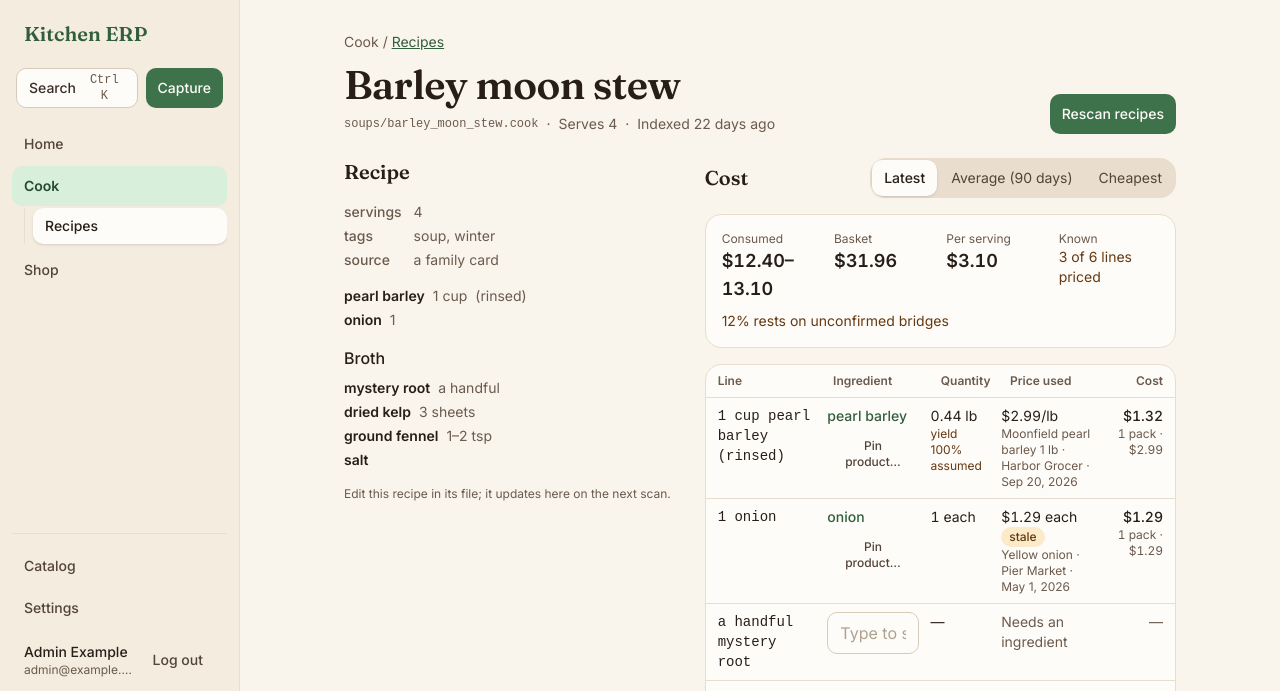
Test case: pins (UI-7.11, criterion 31) › a refused pin shows its reason at the row
This screenshot has width=1280, height=691.
Click the button "Pin product…" below "1 cup pearl barley (rinsed)".
click(873, 454)  # box [827,430,919,478]
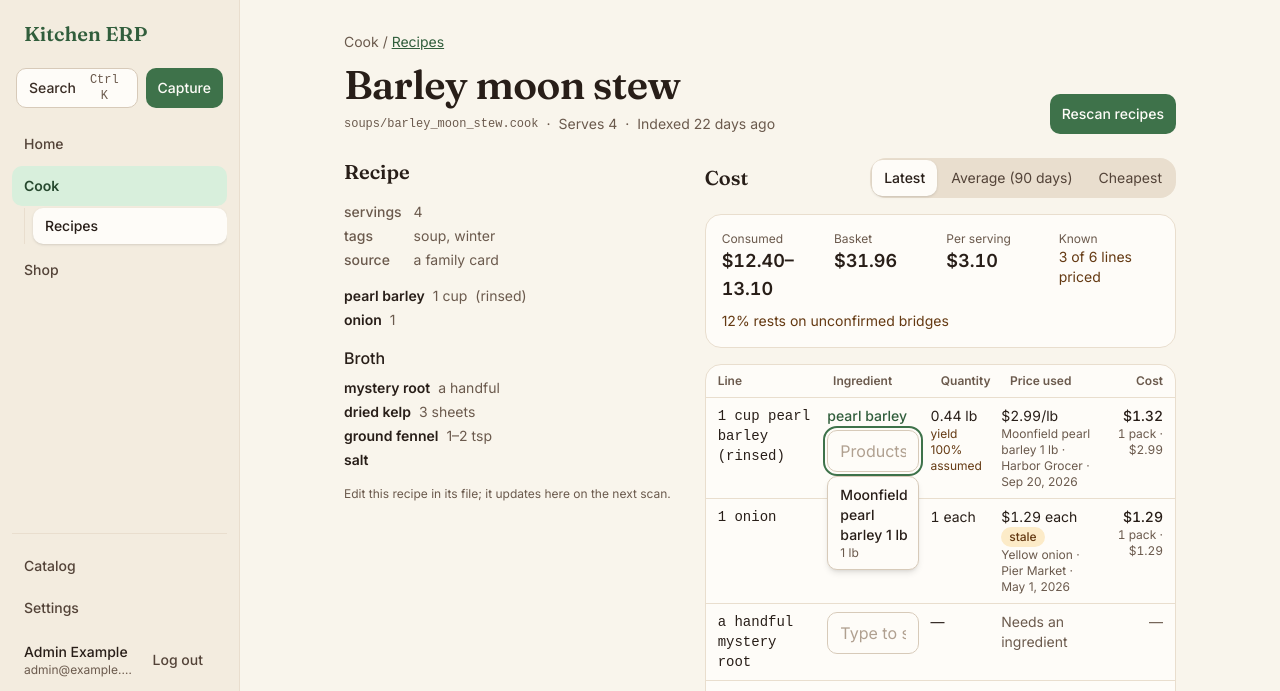
Expected: the number of options is 1, [840,486,908,560]
Press Arrowdown Enter
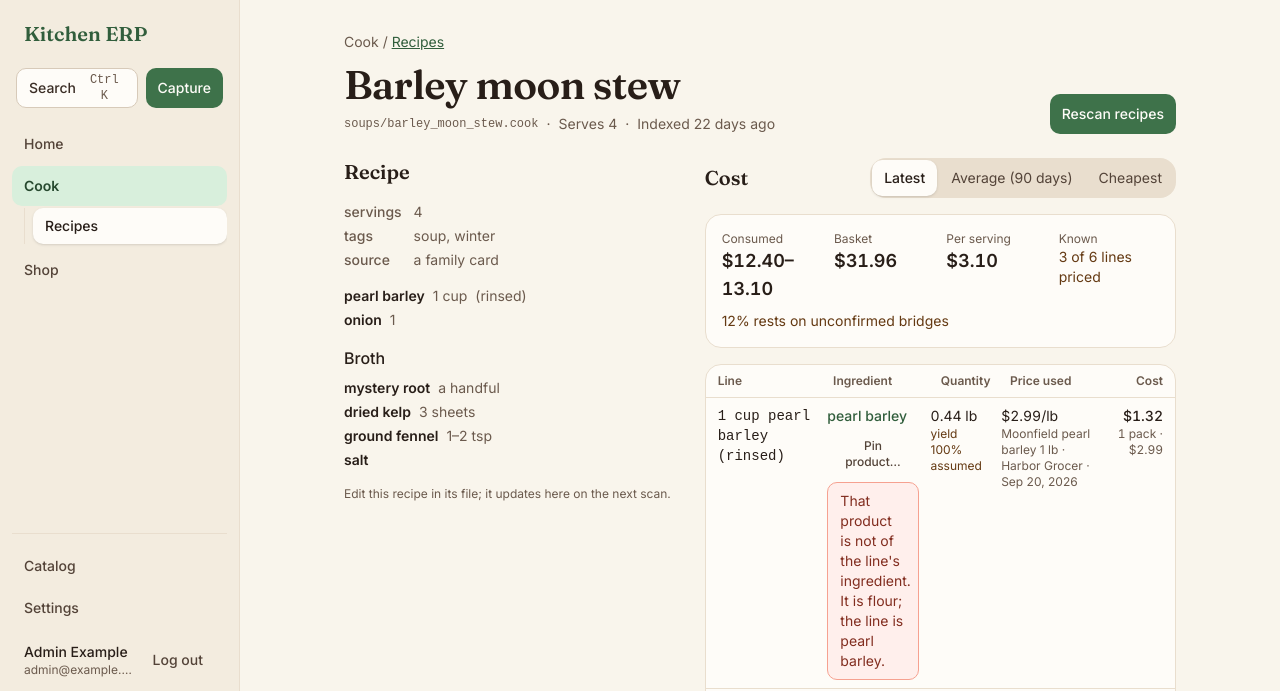
Expected: the text with test id "pin-refused" shows "That product is not of the line's ingredient. It is flour; the line is pearl barley.", [840,492,911,669]
Expected: the button "Pin product…" is shown, [827,430,919,478]
